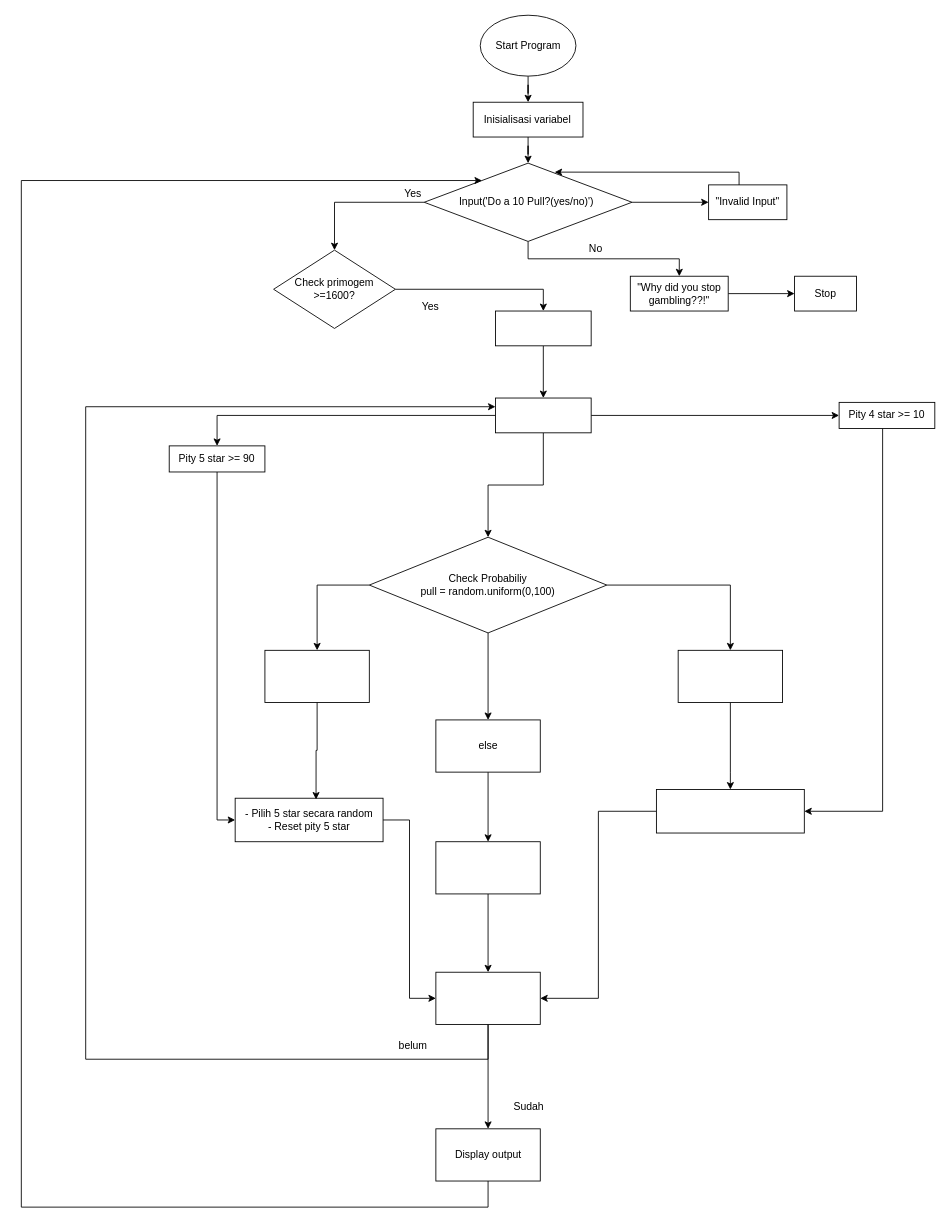
Image size: 950x1229. Some labels were removed from this diagram. Each missing label, with the centre of its shape:
- Pilih 3 star secara random - increase.pity(): (487,867)
- Pilih 4 star secara random - Reset pity 4 star - increase.pity(): (730,811)
Gatcha System: (543,415)
Memanggil Gatcha System: (543,328)
pull <= probabiliy 4 star: (730,676)
pull <= probabiliy 5 star: (316,676)
Sudah 10 kali?: (487,997)
